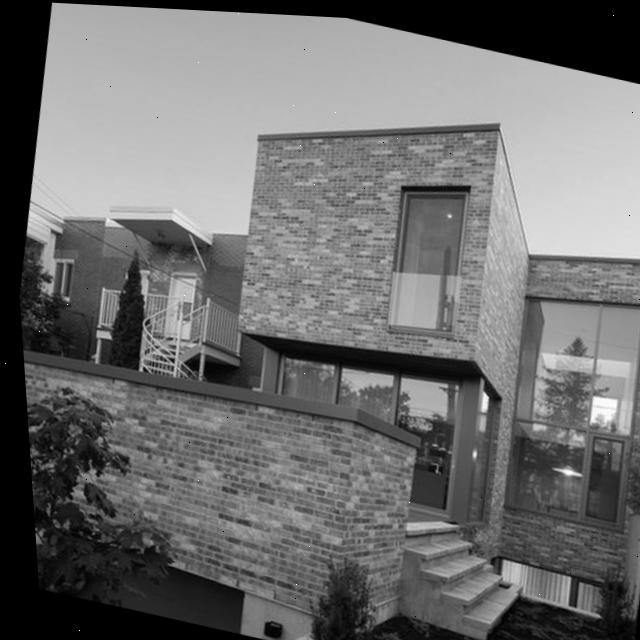building: (183, 65, 640, 625), (12, 182, 289, 402)
